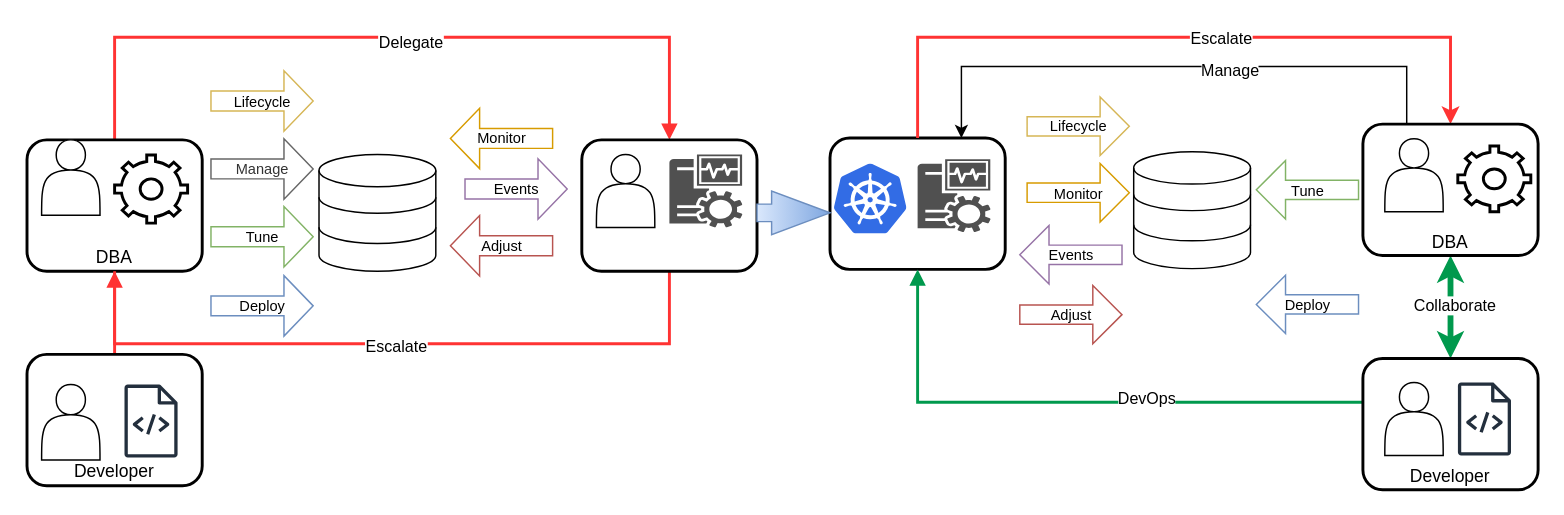
Image size: 1564x515. Some labels were removed from this diagram. Each missing label, with the box of its shape:
Operator: (580, 138, 758, 272)
OraOperator: (828, 136, 1006, 270)
